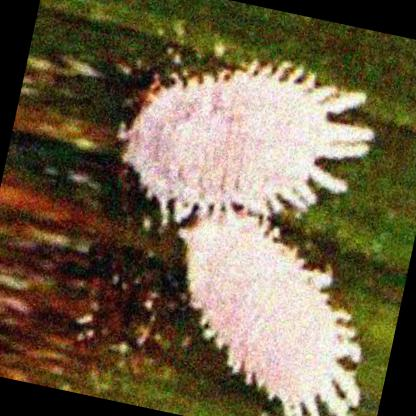mealy bug: (127, 71, 377, 219), (188, 218, 357, 416)
